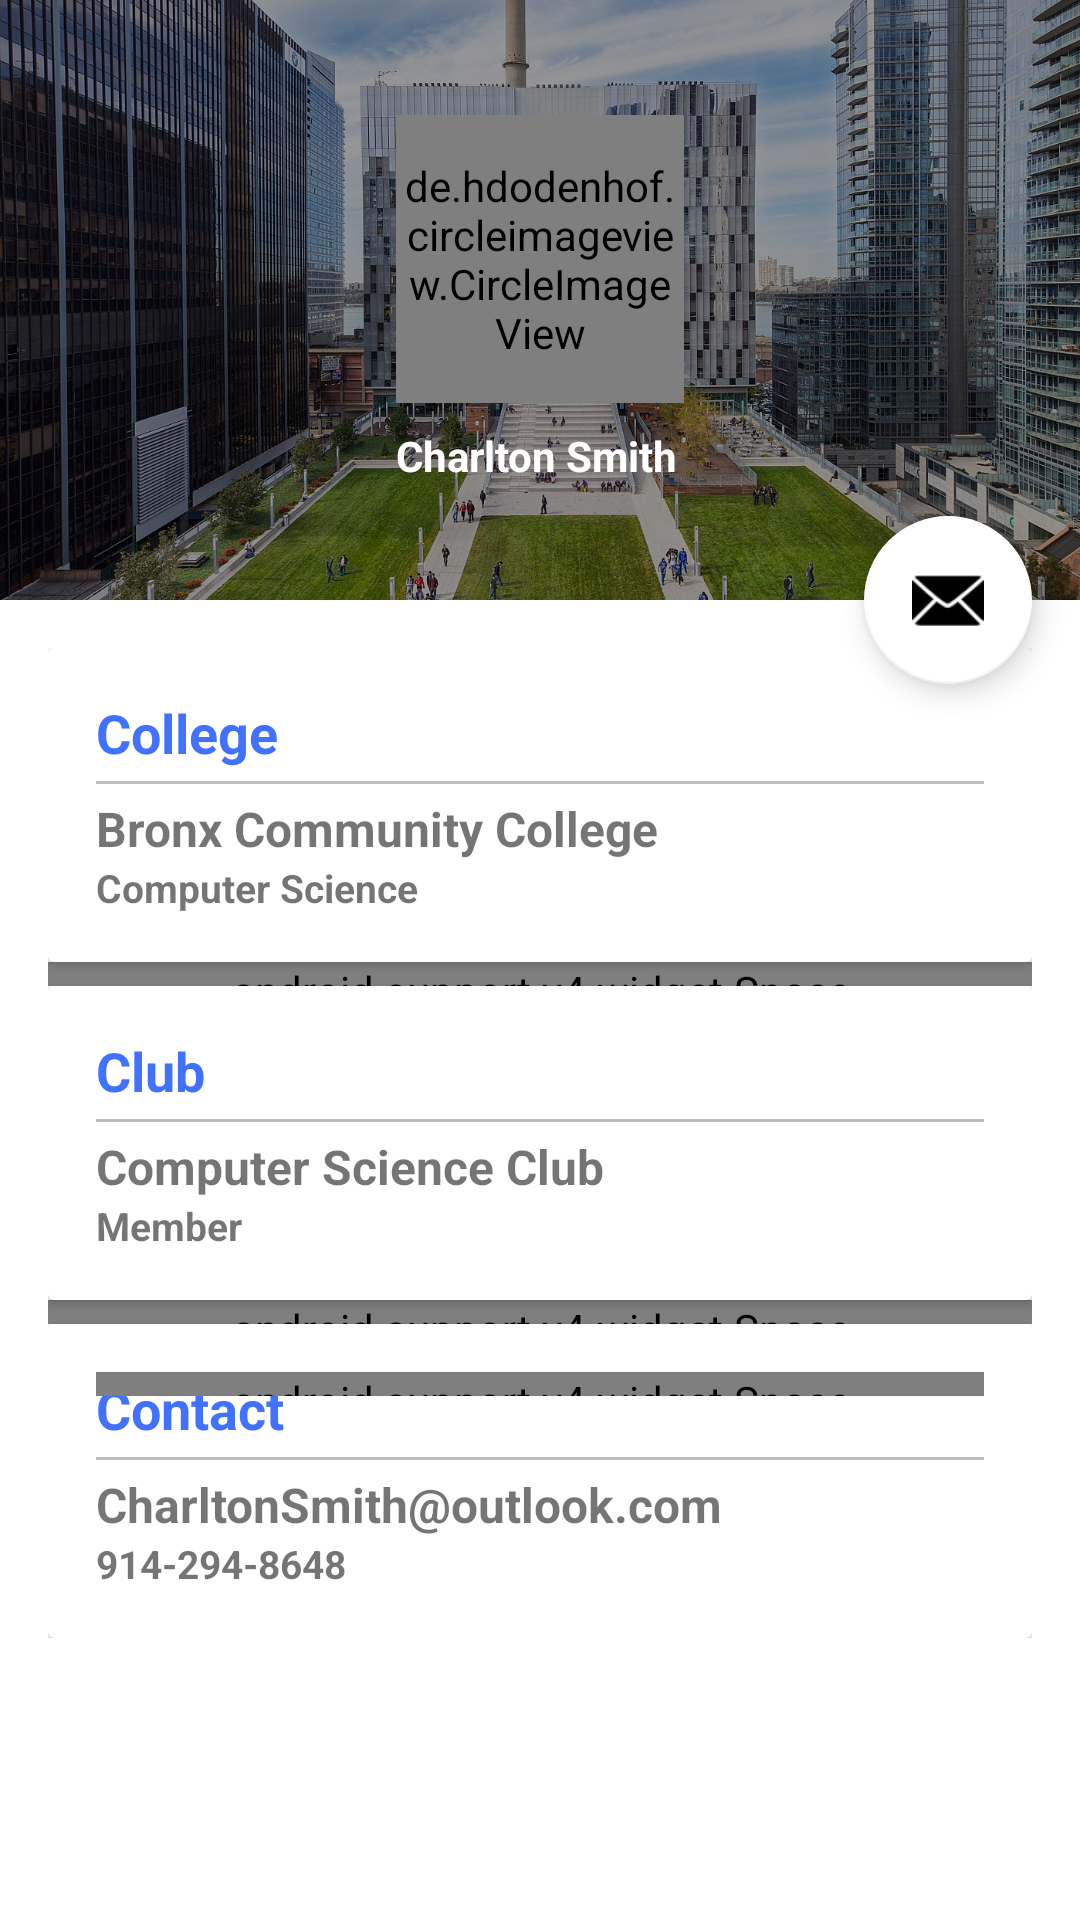

Where to tap for icons on this 1080 × 1920 app screen, as (x,y):
email: (948,600)
